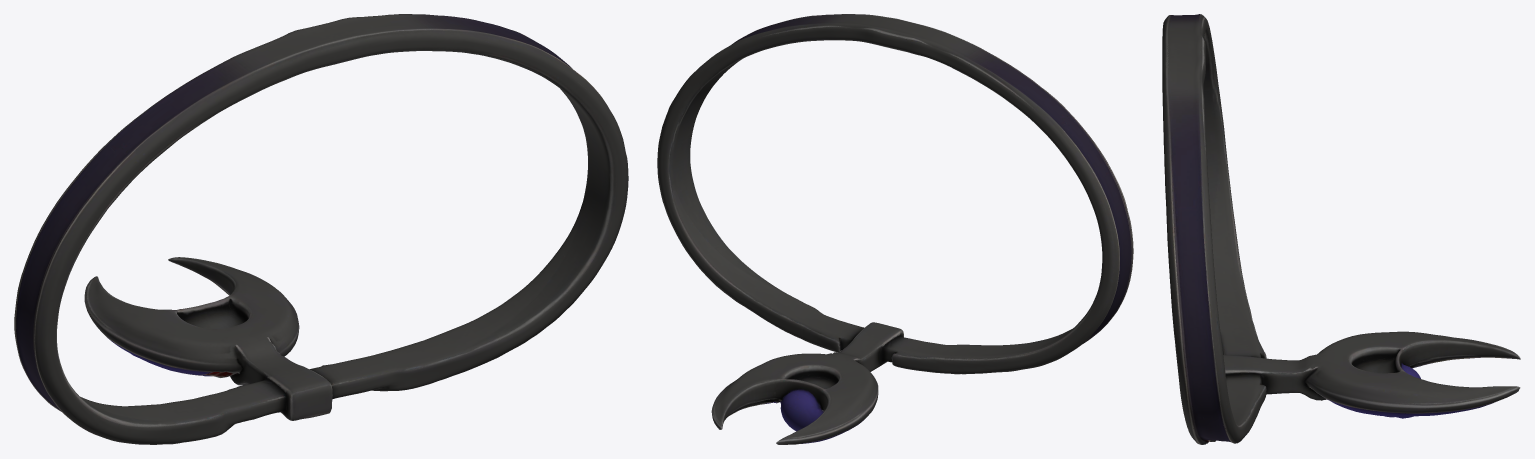
Rendered from moon_choker.glb.
The picture shows the model from 3 angles, left to right: view 1: azimuth 30°, elevation 25°; view 2: azimuth 150°, elevation 25°; view 3: azimuth 270°, elevation 25°; orthographic projection. The views are drawn at different scales.
Parts seen in each view (by area): view 1: tripo_node_d04b4909; view 2: tripo_node_d04b4909; view 3: tripo_node_d04b4909.
Boxes of the visible parts, <box> form: tripo_node_d04b4909: <box>14,14,628,444</box>; tripo_node_d04b4909: <box>657,14,1133,444</box>; tripo_node_d04b4909: <box>1162,14,1520,444</box>.
Size of the model in its own units: 99.79 by 69.25 by 61.47.
Materials: 1 (1 with a texture image).
